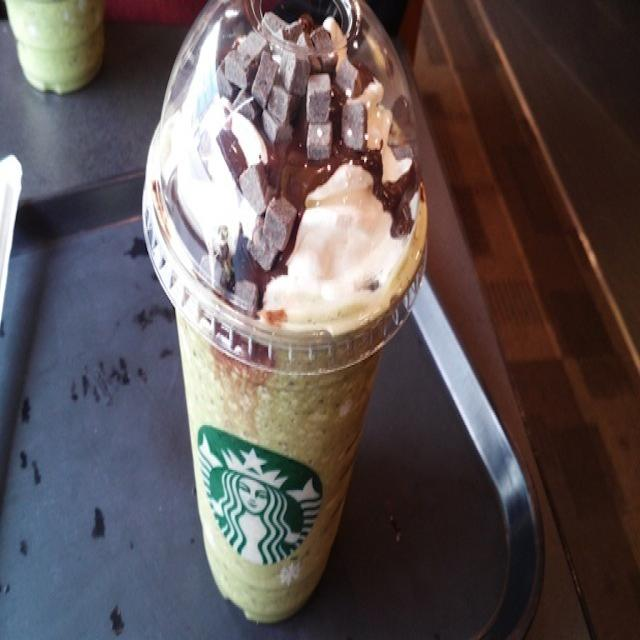starbucks: (193, 421, 330, 578)
